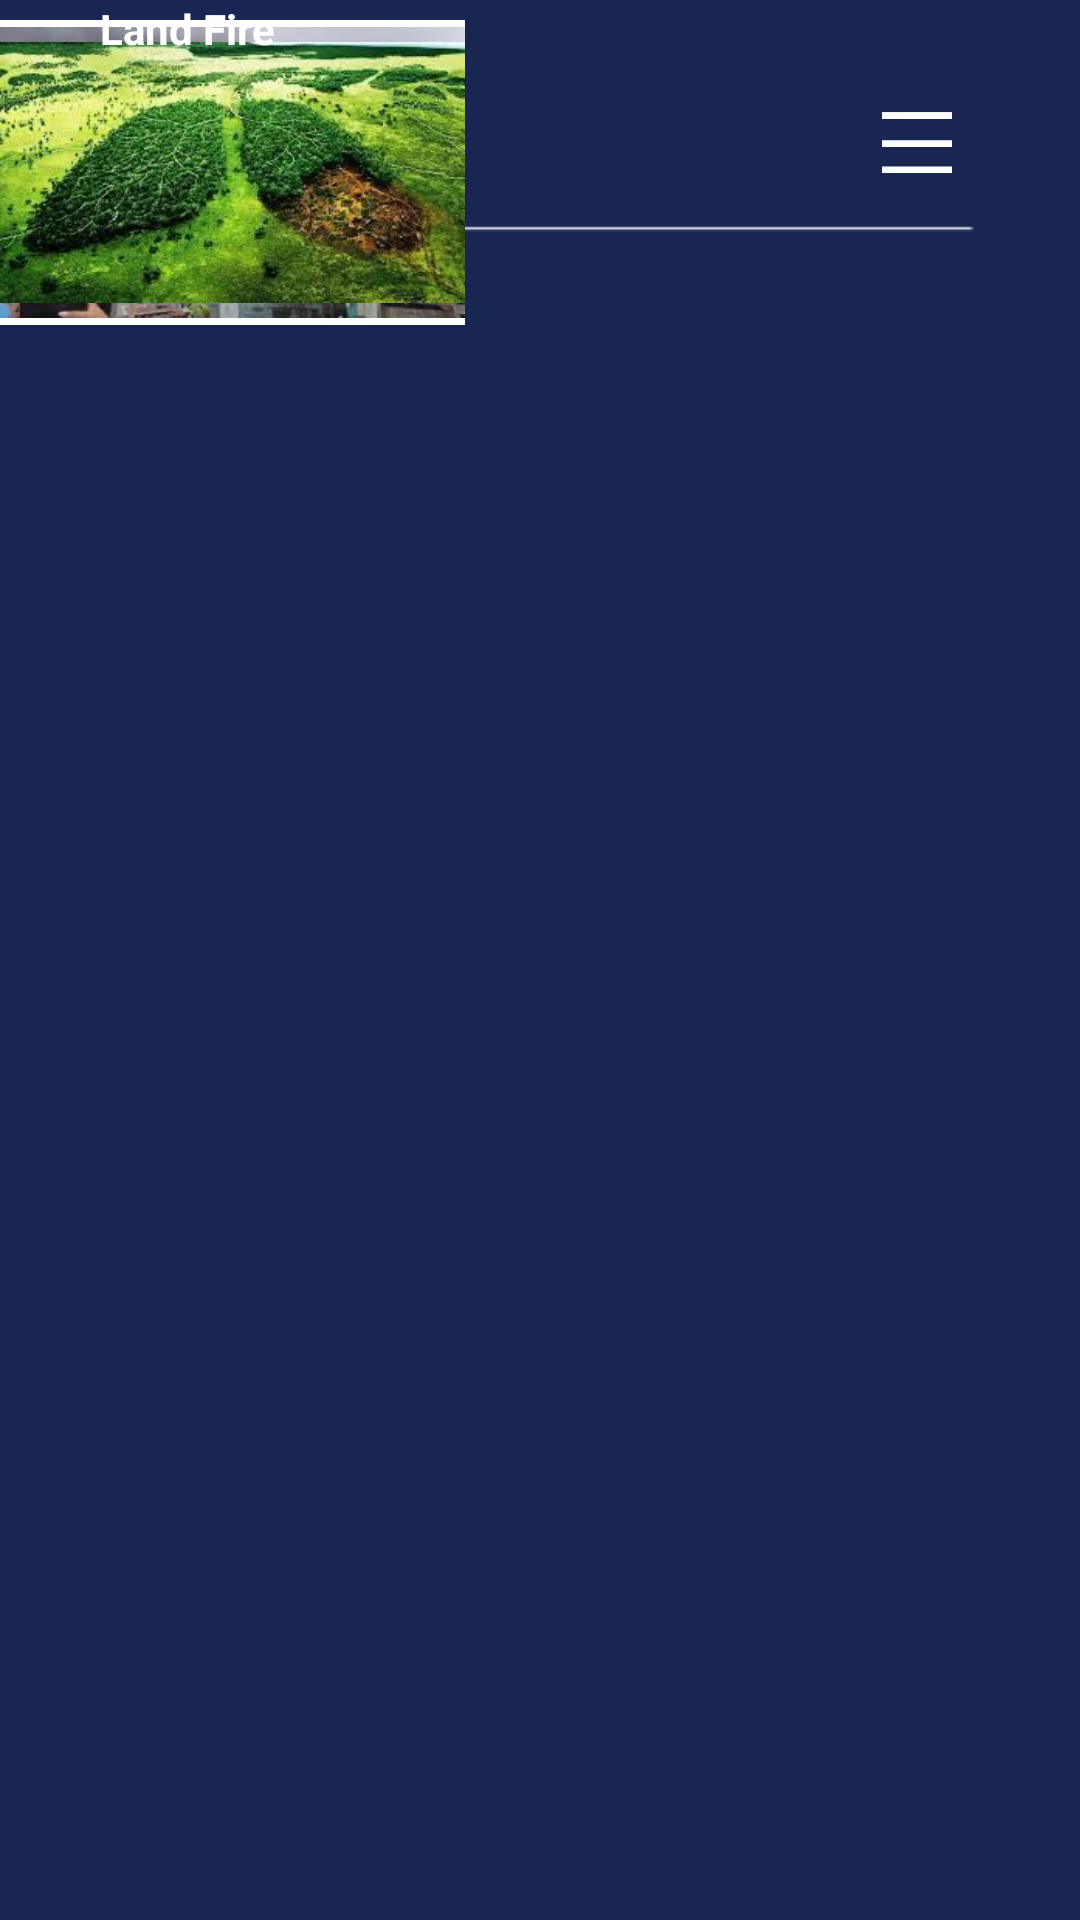

Icon click points for this 1080 × 1920 phone screenshot, format (x=x, y=y):
navwhite: (x=917, y=142)
